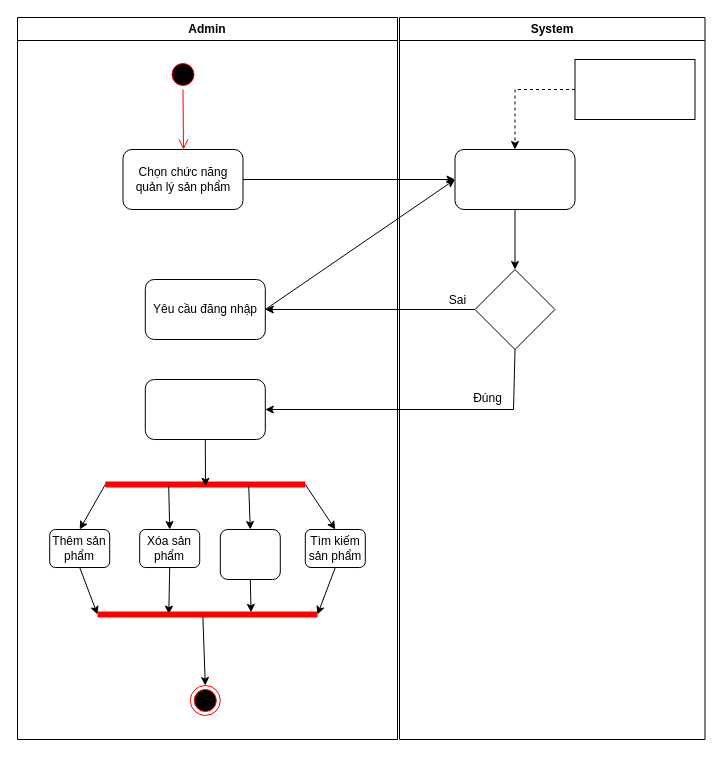
Some shapes in this 723 by 757 pixel diagram are drawn without their labels. Each missing label, with the centre of its shape:
Cập nhật thông tin sản phẩm: [249,554]
Kiểm tra quyền đăng nhập: [514,179]
Lựa chọn chức năng: [204,409]
Tài khoản: [634,89]
